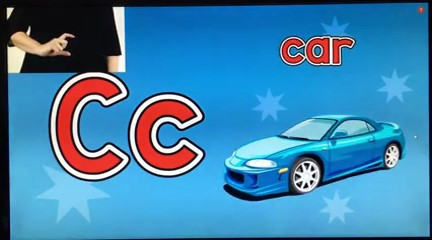C: (36, 31, 76, 59)
